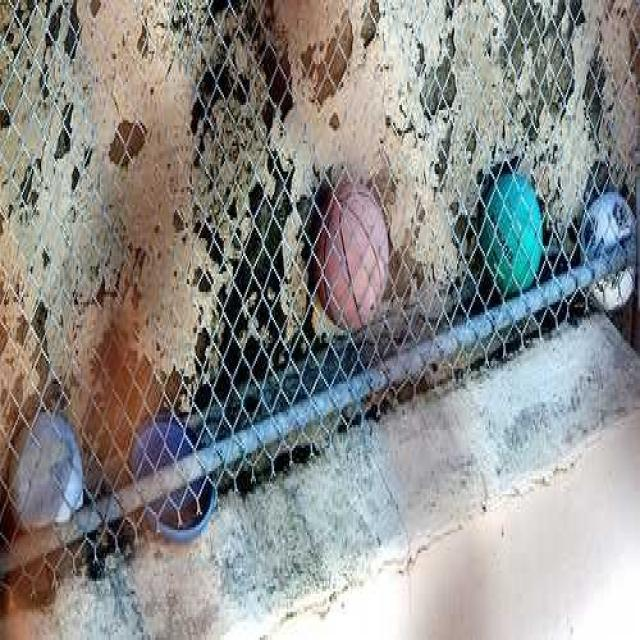ball: (315, 178, 390, 334), (8, 411, 84, 555), (480, 168, 544, 294), (581, 190, 637, 310)
